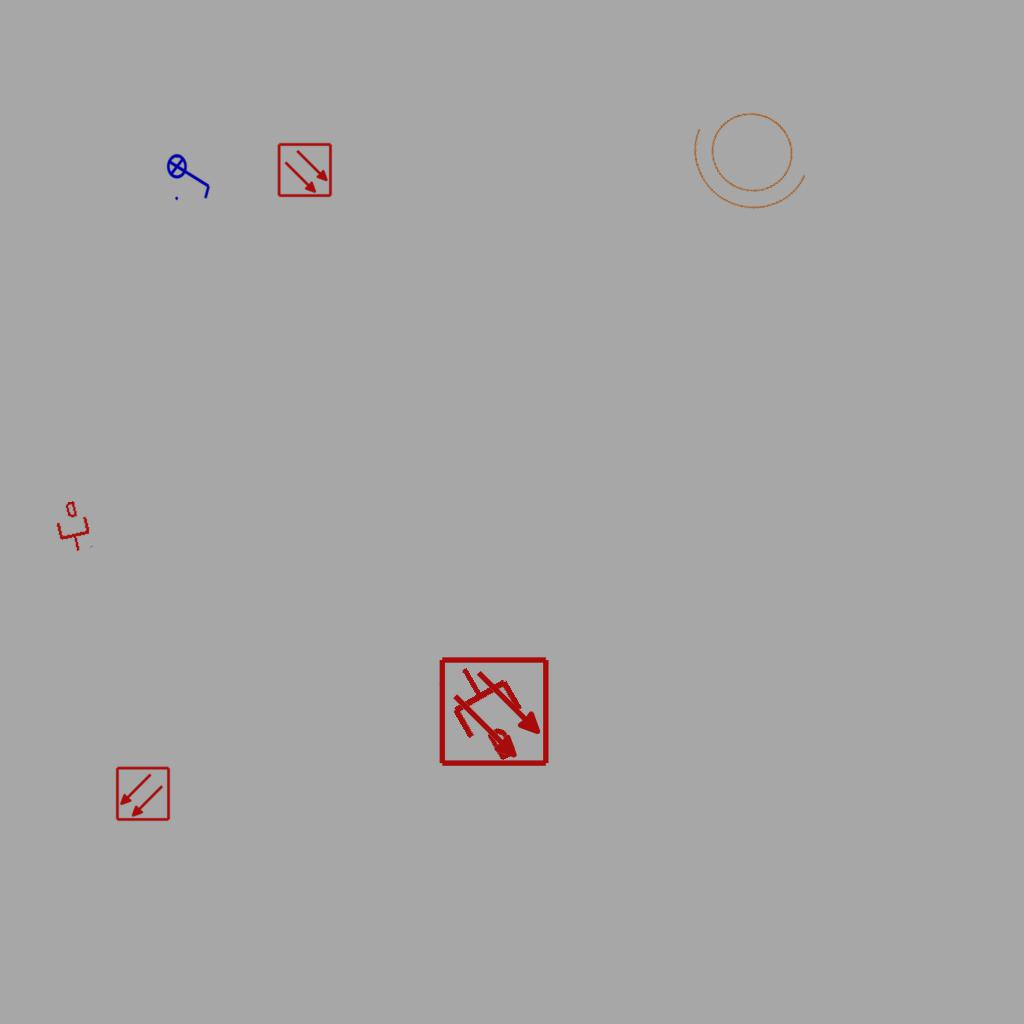Ausschalter_beleuchtet: (166, 147, 214, 203)
Datenanschluss_einfach: (433, 650, 544, 772), (50, 498, 96, 556)
RMO_Rauchmelder_optischer: (438, 655, 551, 768), (277, 142, 333, 198), (115, 766, 171, 822)
Scheinwerfer_fuer_Alarmbeleuchtung: (669, 79, 837, 237)
